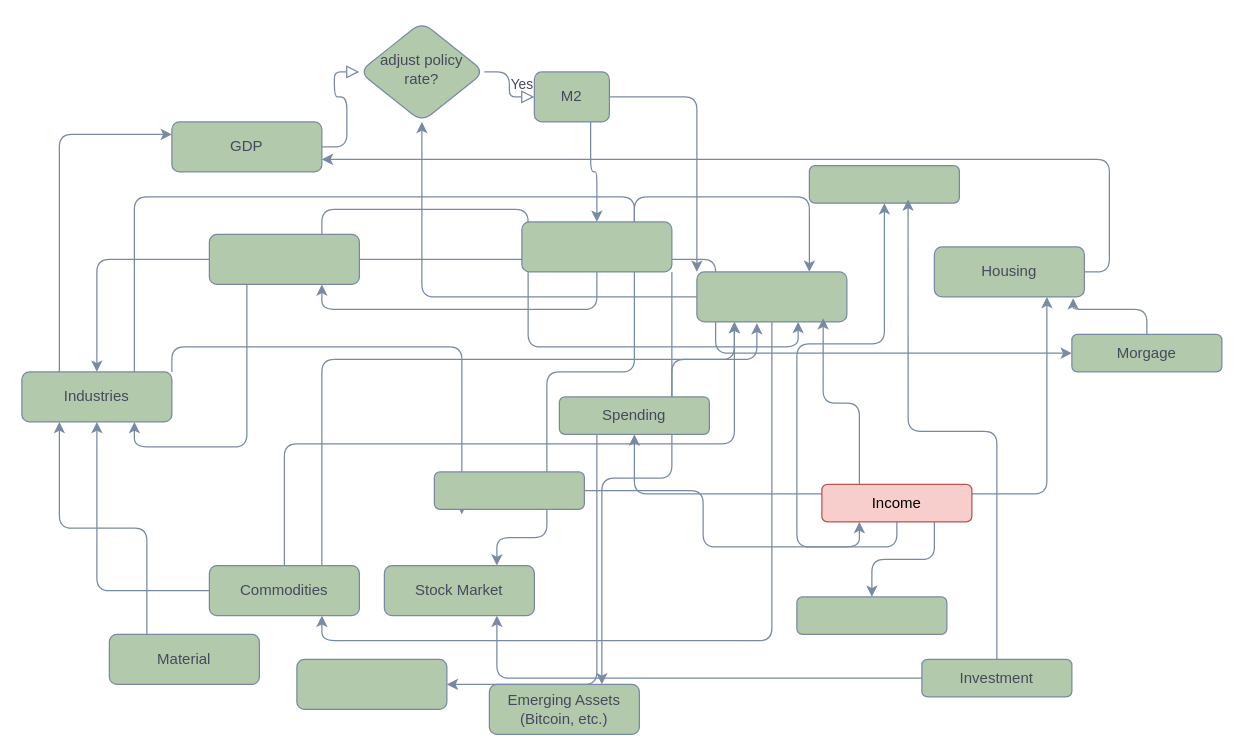
Image size: 1244x756. Some labels were removed from this diagram. Here are the shapes that lost their labels. From the top down, the box of each, then its label:
(808, 164, 959, 203): Funds
(208, 233, 359, 284): Loans
(521, 221, 672, 272): Savings
(696, 271, 847, 322): CPI
(433, 471, 584, 509): Jobs
(796, 596, 947, 634): Utility
(296, 658, 447, 709): Gold
